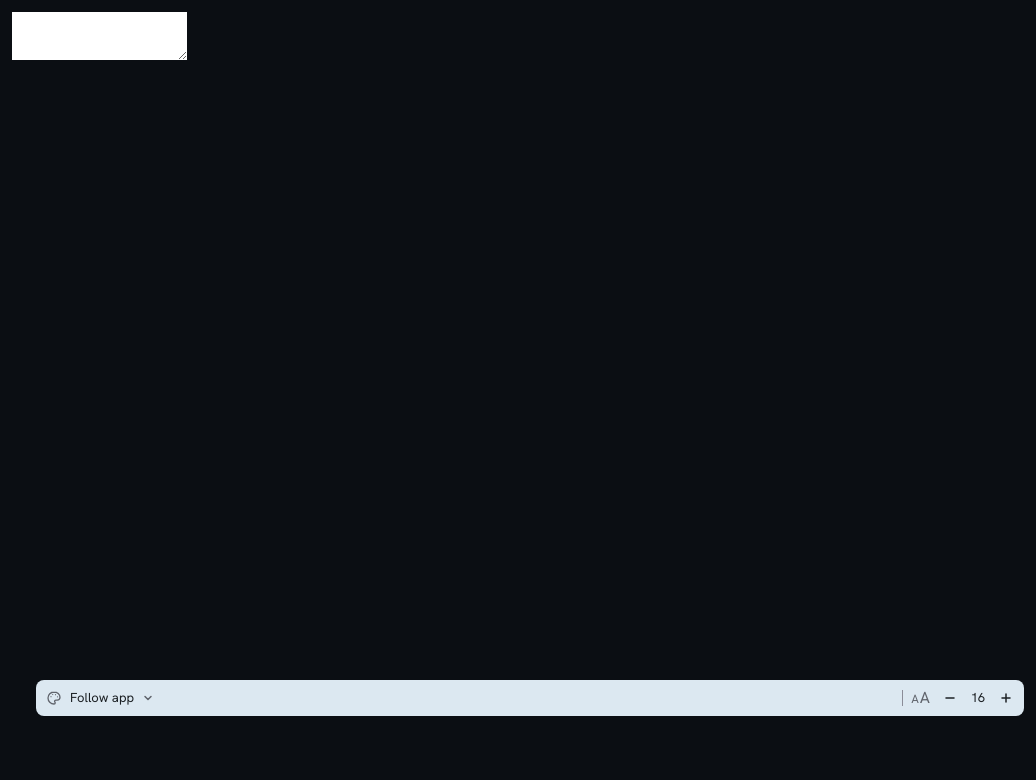
Test case: CodeAppearanceBar › selects an explicit theme, then Follow app restores ink
Click the dropdown with test id "code-theme-select": (101, 698) [40,682,162,714]
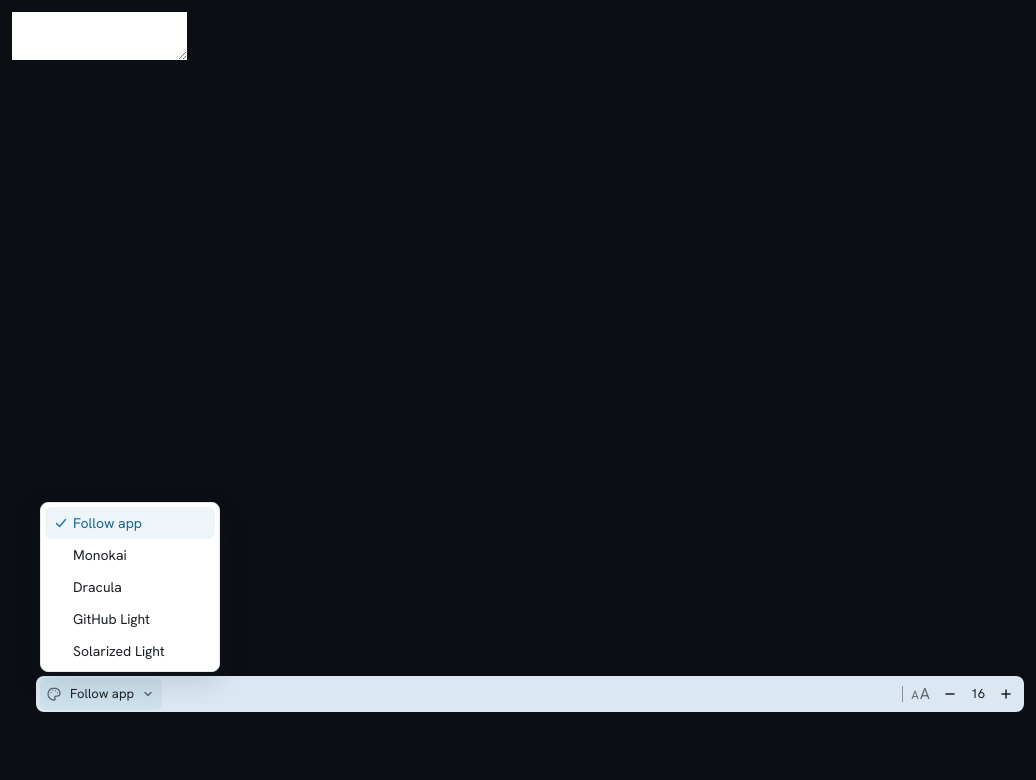
Click the option with test id "code-theme-option-dracula": (97, 587) [73,578,122,596]
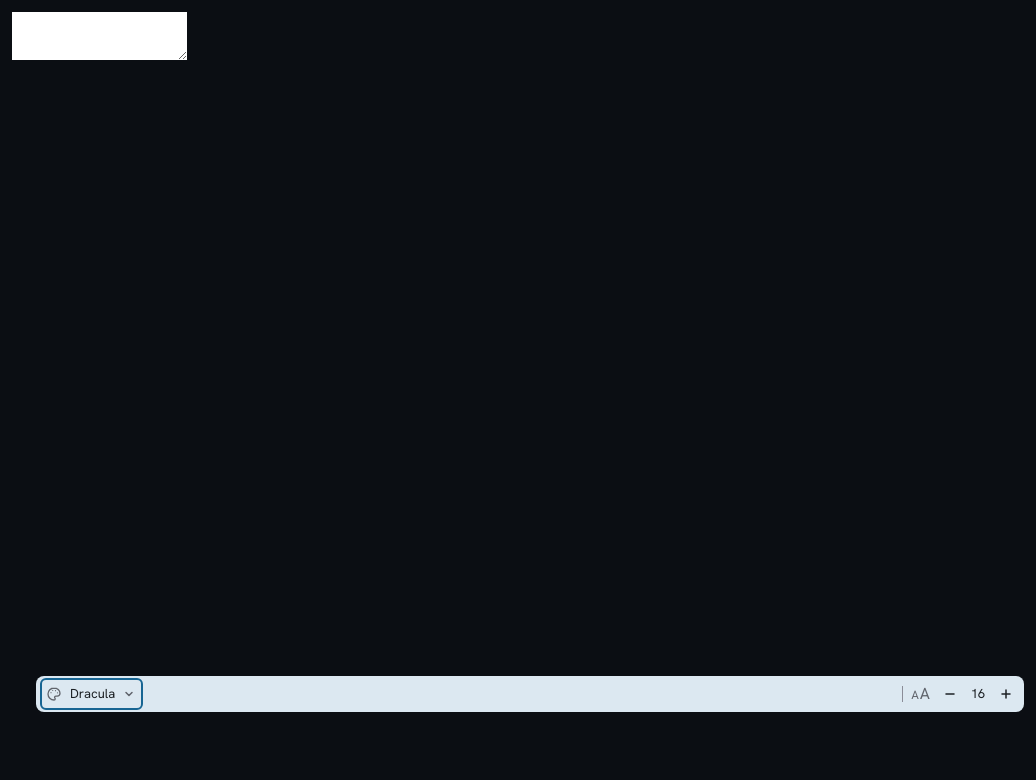
Check: the dropdown with test id "code-theme-select" reads "Dracula"
Click the dropdown with test id "code-theme-select": (92, 694) [40,678,143,710]
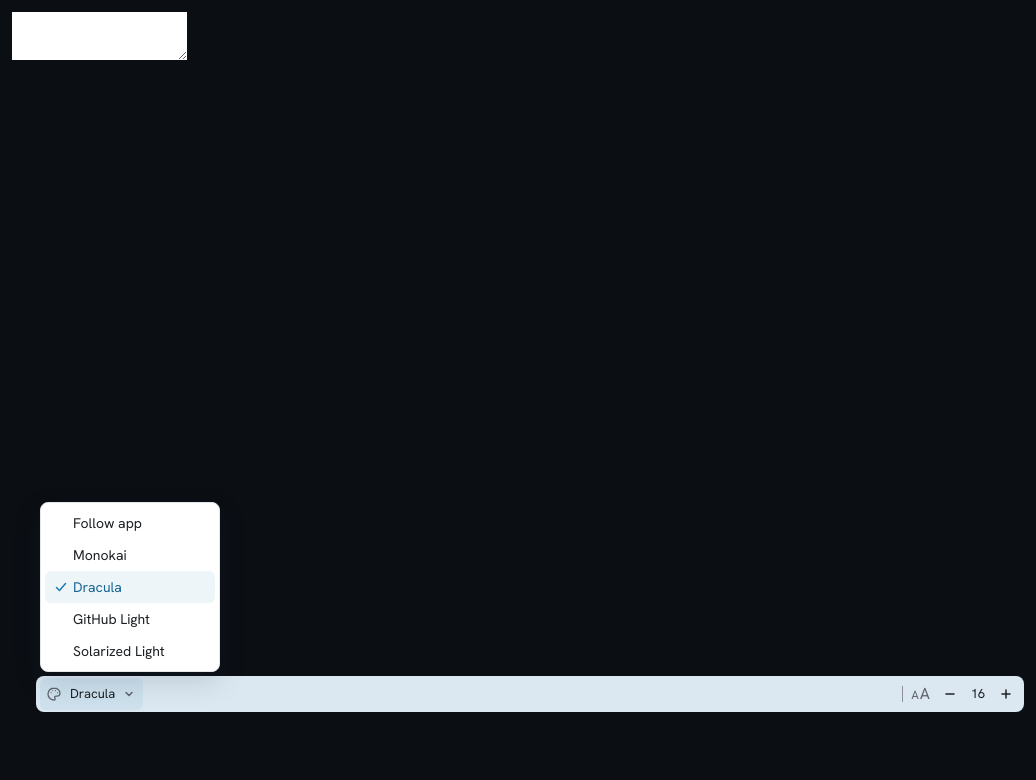
Click the option with test id "code-theme-option-ink": (108, 523) [73,514,142,532]
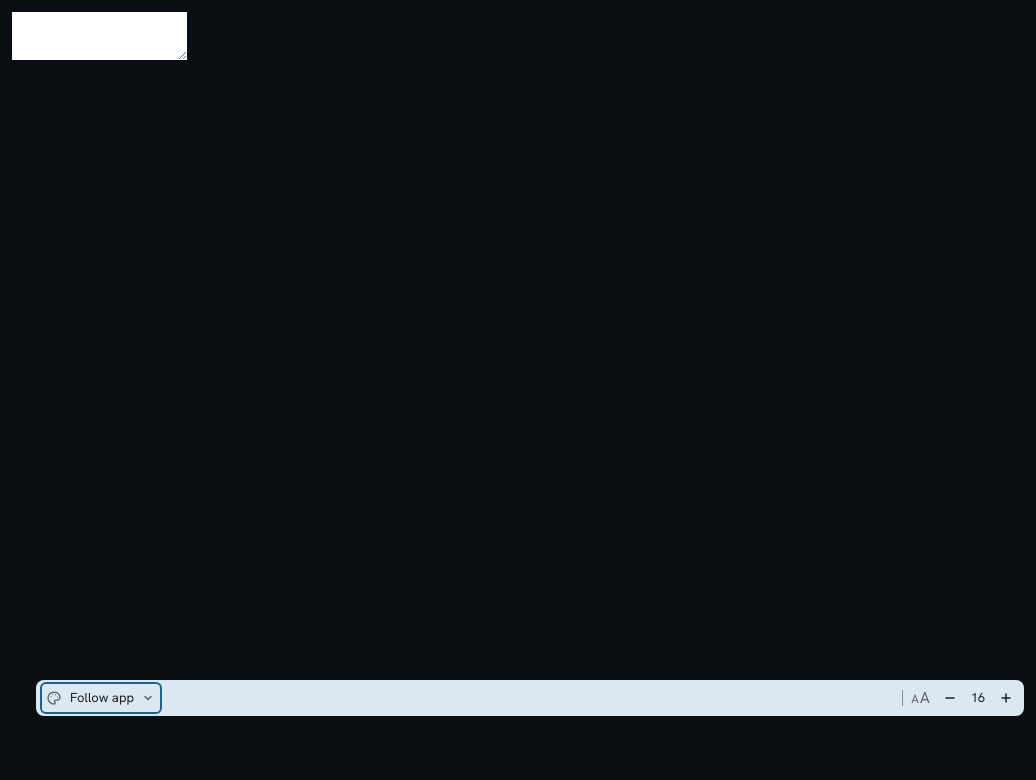
Check: the dropdown with test id "code-theme-select" reads "Follow app", box [40,682,162,714]
